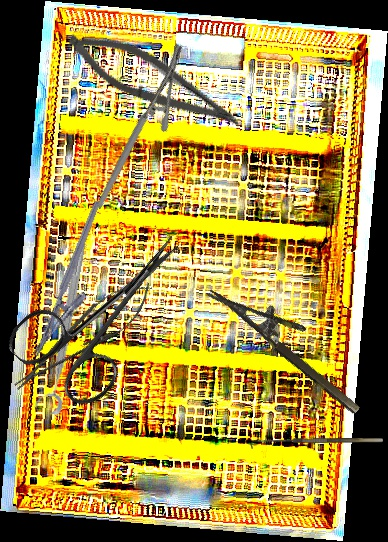Fixation Ring: (32, 240, 91, 416)
Hook Surgical: (251, 438, 383, 449)
Iris Scissors: (1, 200, 215, 419)
Micro Scissor: (58, 21, 253, 140)
Needle Holder: (53, 40, 225, 210), (207, 265, 377, 417), (3, 269, 163, 403), (31, 199, 122, 367)
